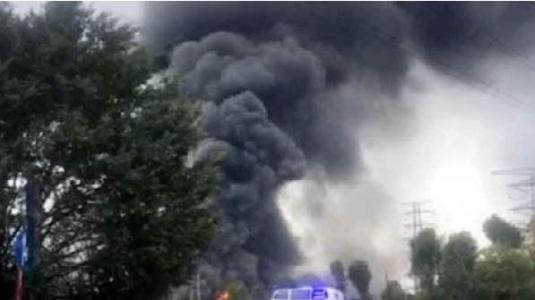smoke: (168, 1, 414, 246)
